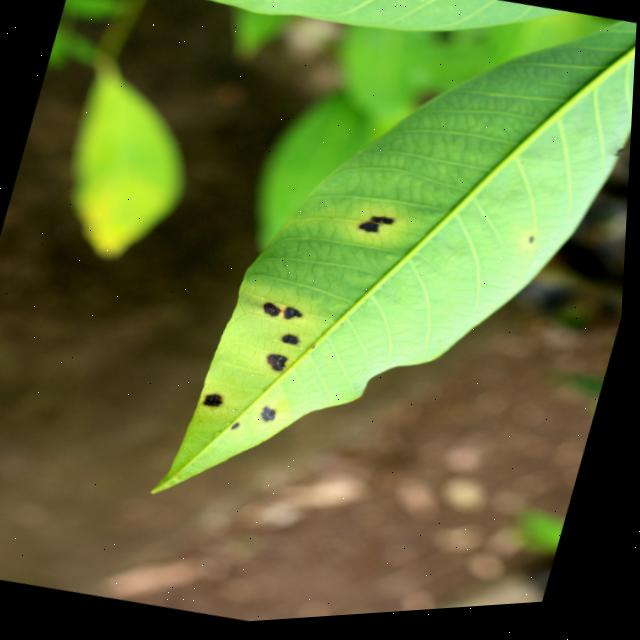Colletotrichum: (267, 355, 291, 377), (205, 394, 228, 411), (283, 309, 306, 326), (263, 304, 285, 321), (264, 409, 280, 425), (284, 336, 302, 350)
